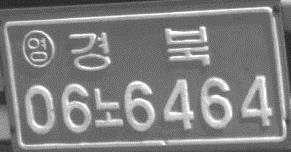0: (24, 84, 57, 135)
4: (239, 74, 273, 128), (162, 77, 194, 130)
6: (199, 76, 233, 130), (122, 79, 156, 132), (60, 83, 92, 134)
경북_D: (68, 23, 211, 72)
노: (92, 86, 124, 127)
영: (21, 28, 57, 69)
